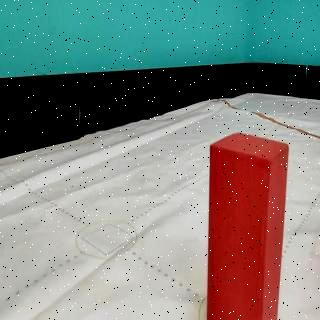redbox: (205, 131, 288, 320)
